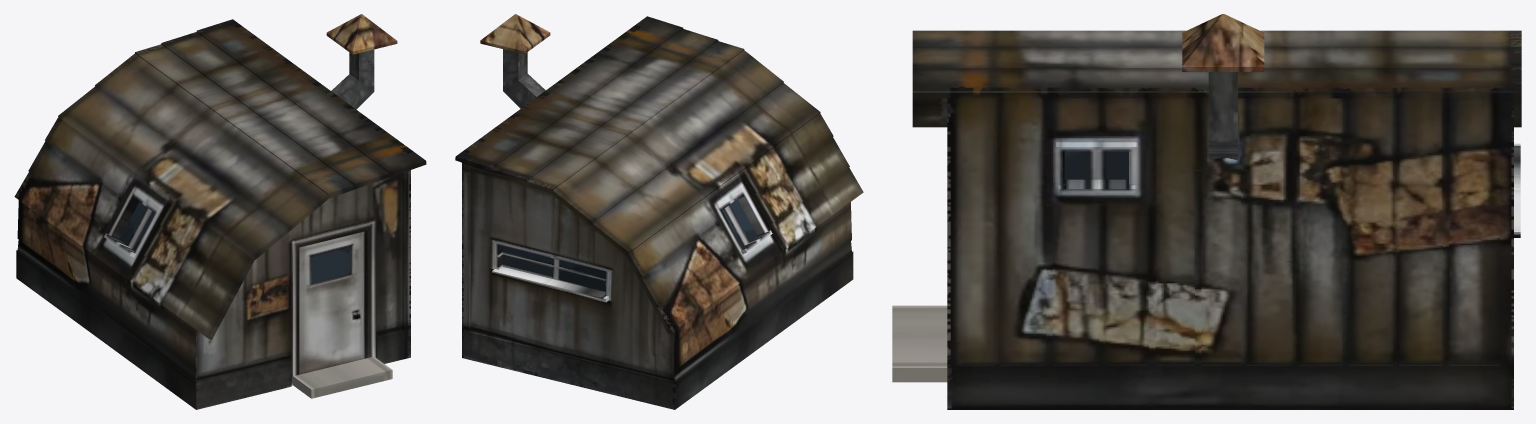
Rendered from singlecivlivingc_cad.glb.
3 views of the same model, side by side, from view 1: azimuth 30°, elevation 25°; view 2: azimuth 150°, elevation 25°; view 3: azimuth 270°, elevation 25° (orthographic). The views are drawn at different scales.
Parts seen in each view (by area): view 1: Cylinder01; view 2: Cylinder01; view 3: Cylinder01.
Part boxes in pixels (left/top/right/bottom): Cylinder01: left=14, top=14, right=426, bottom=409; Cylinder01: left=455, top=14, right=863, bottom=409; Cylinder01: left=892, top=14, right=1521, bottom=409.
Bounding box in the file's own units: 4.76 × 4.45 × 5.97.
Materials: 1 (1 with a texture image).
